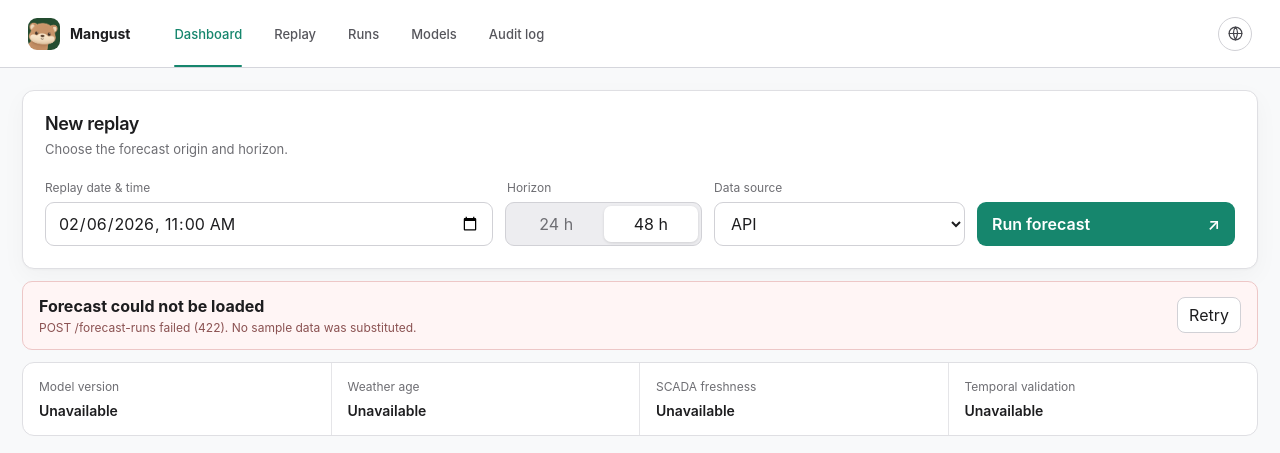
dashboard › switches to Kazakh Pipeline wording without claiming an AI agent
Check: the message is shown, box 22,280 -> 1258,350
Click the button named "Language".
click(1235, 34)  # box 1218,16 -> 1252,50
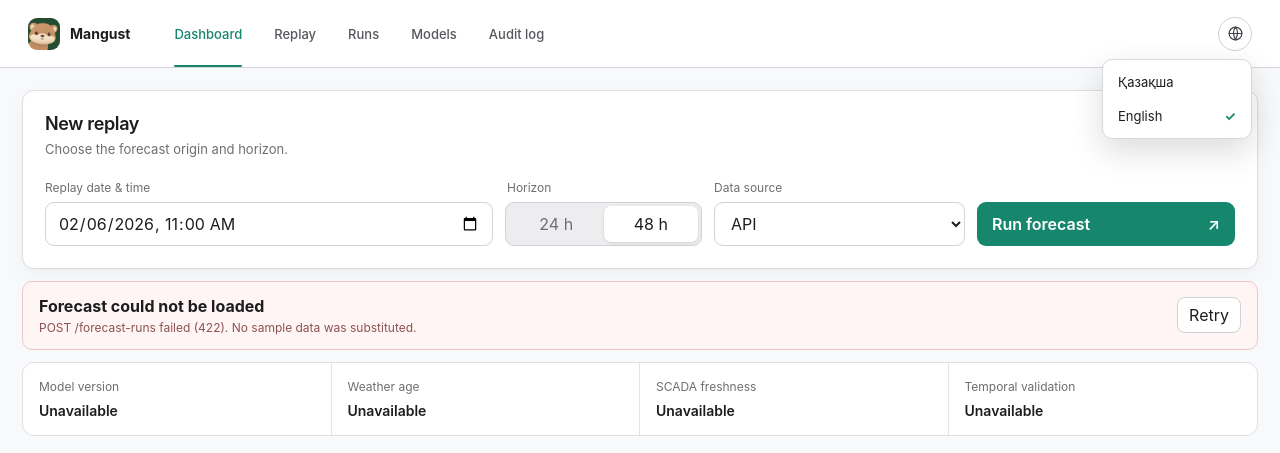
Click the menu item "Қазақша".
click(1177, 82)  # box 1108,64 -> 1246,98
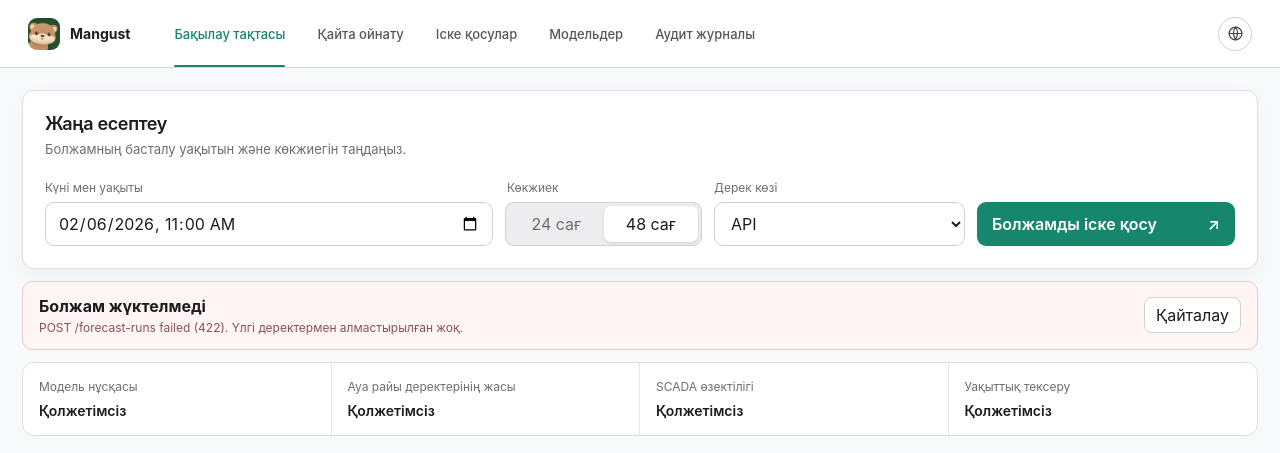
Check: the link "Бақылау тақтасы" is shown, box 174,0 -> 285,67
